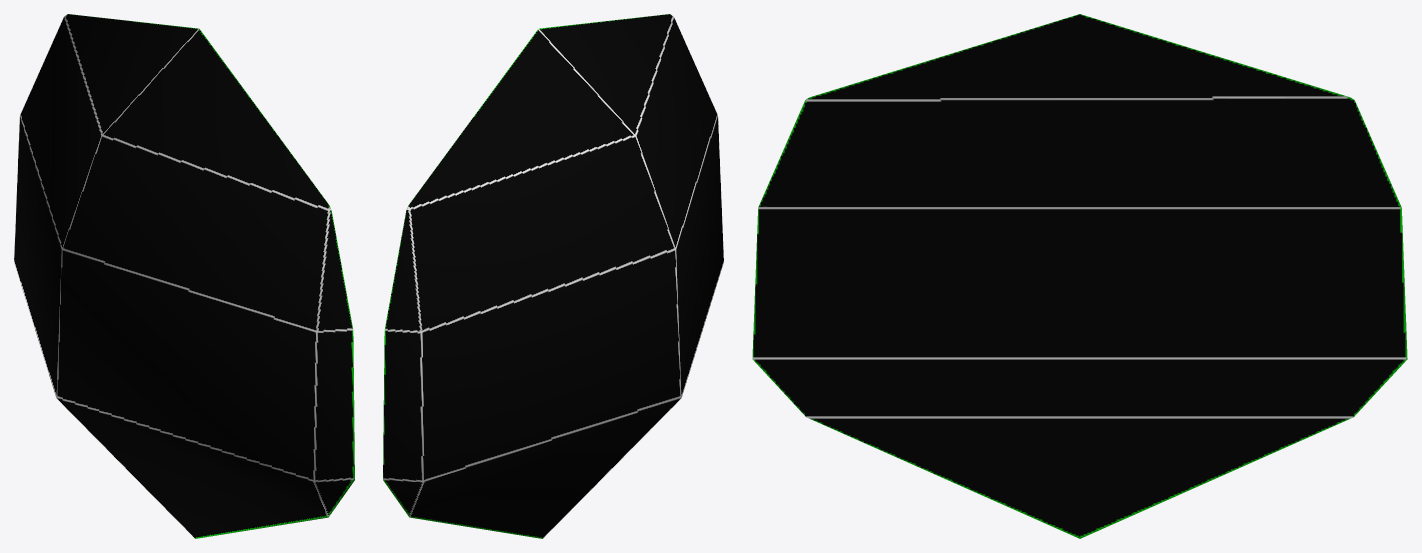
File: asset_ingredient_onion_state4.FBX
3 views of the same model, side by side, from view 1: azimuth 30°, elevation 25°; view 2: azimuth 150°, elevation 25°; view 3: azimuth 270°, elevation 25° (orthographic). The views are drawn at different scales.
Parts seen in each view (by area): view 1: Object004; view 2: Object004; view 3: Object004.
Boxes of the visible parts, x1,y1,x2,y2 form: Object004: (14,14,354,538); Object004: (383,14,723,538); Object004: (752,14,1407,538).
Size of the model in its own units: 1.29 by 4.38 by 4.93.
